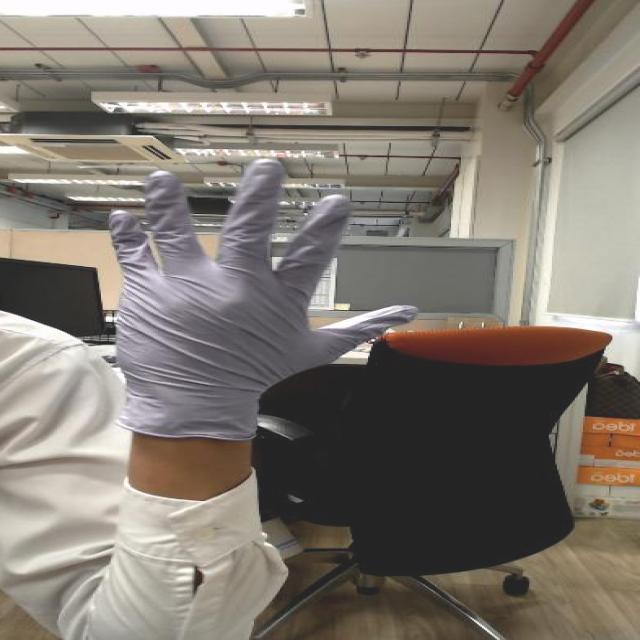glove: (47, 144, 446, 408)
